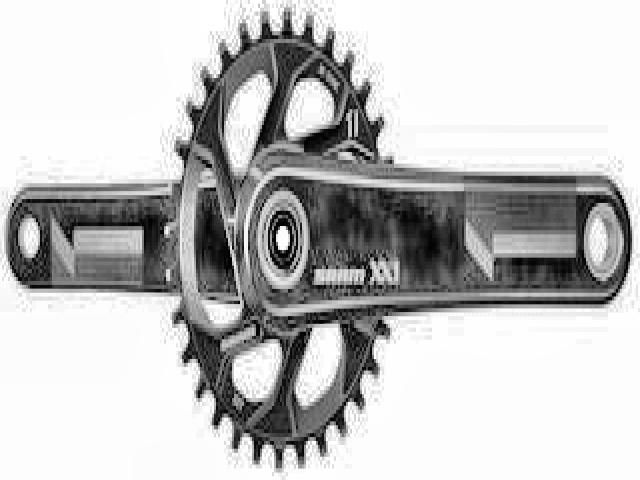cranks_set: (165, 1, 630, 472)
